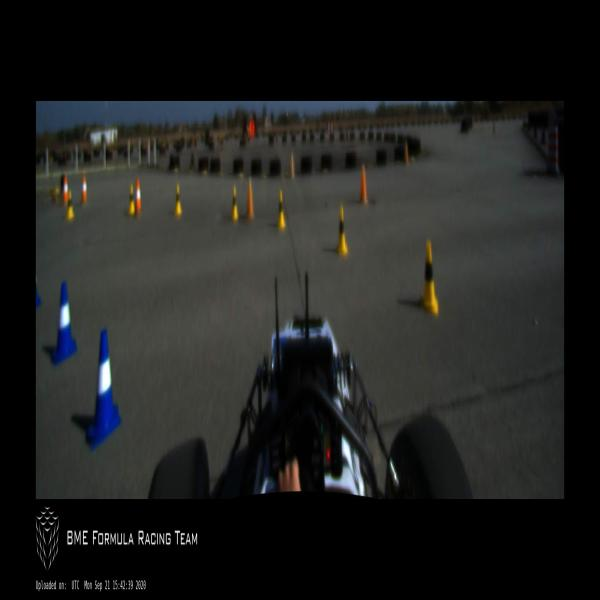blue_cone: (86, 328, 121, 451), (52, 283, 76, 366), (36, 257, 41, 306)
orange_cone: (135, 178, 141, 214), (62, 175, 69, 204), (81, 174, 87, 203)
unknown_cone: (244, 177, 255, 222), (359, 166, 367, 203), (289, 154, 295, 178), (404, 139, 409, 163)
yellow_cone: (421, 242, 439, 314), (336, 204, 347, 256), (277, 189, 285, 229), (65, 190, 74, 220), (128, 185, 136, 216), (231, 187, 238, 221), (174, 185, 181, 216)
